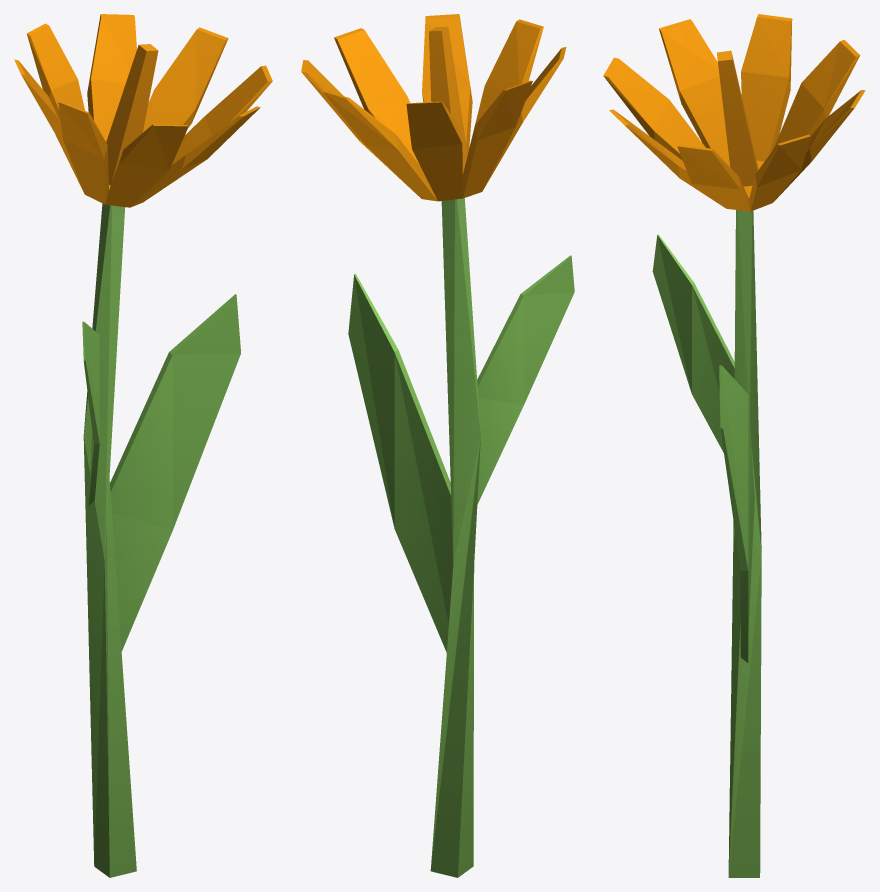
Rendered from flower_lily.glb.
3 renders of one model, left to right at view 1: azimuth 30°, elevation 25°; view 2: azimuth 150°, elevation 25°; view 3: azimuth 270°, elevation 25°, orthographic.
Visible parts, largest first — view 1: flower_lily; view 2: flower_lily; view 3: flower_lily.
Part boxes in pixels (x1,y1,x2,y2): flower_lily: (14, 14, 272, 877); flower_lily: (301, 14, 574, 877); flower_lily: (603, 14, 865, 877).
Bounding box in the file's own units: 0.1546 × 0.55 × 0.1579.
1 material, 1 textured.
